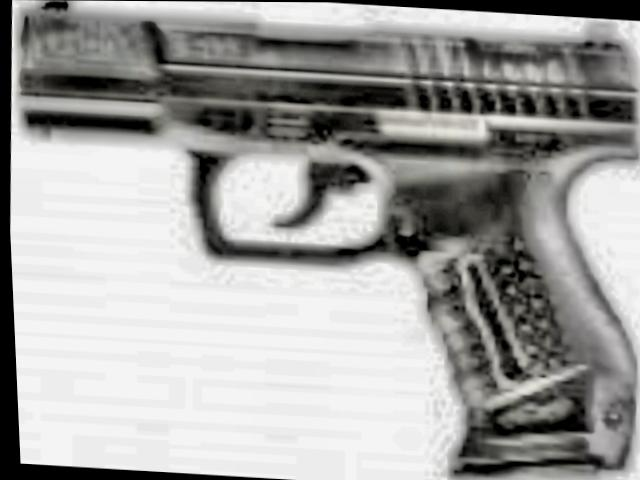pistol: (0, 0, 640, 475)
